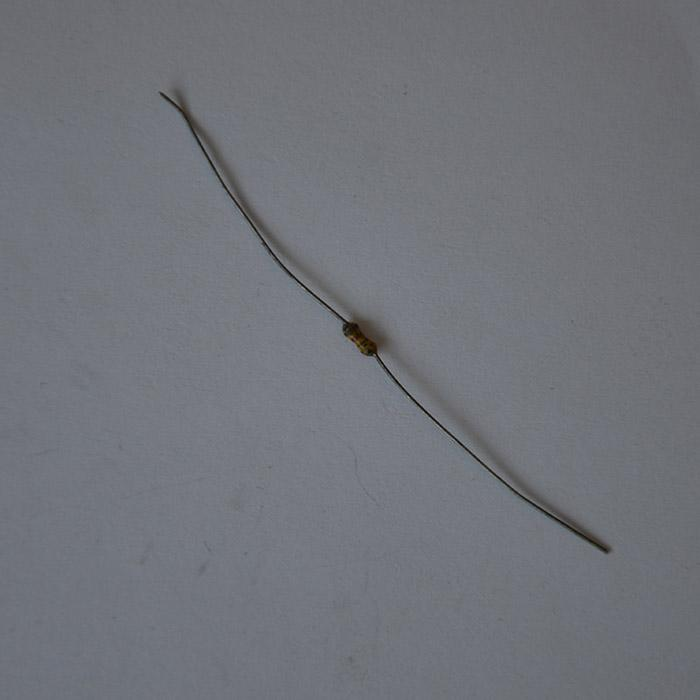resistor: (338, 318, 380, 359)
